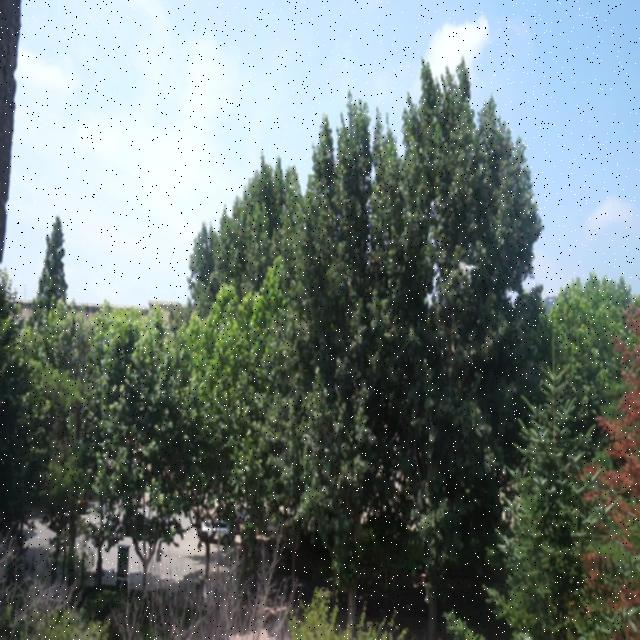UAV: (460, 262, 476, 275)
